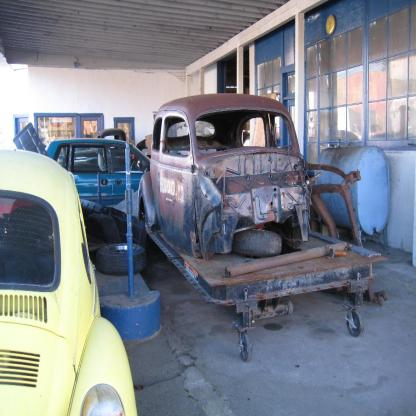Car: (139, 91, 363, 262), (1, 150, 138, 416), (47, 136, 151, 205), (58, 129, 182, 173)
